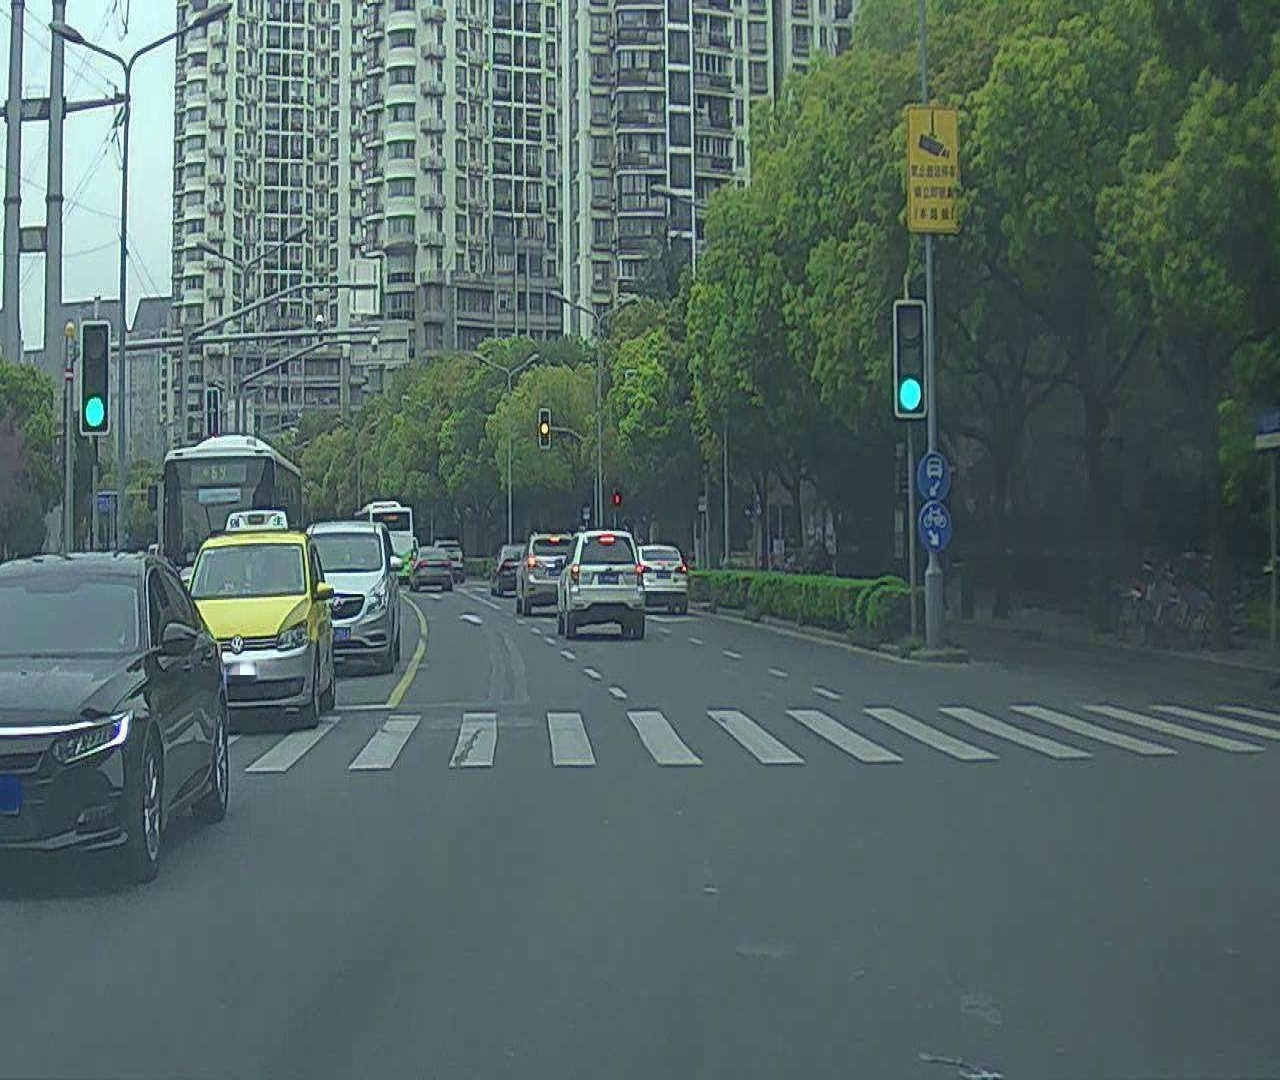green: (897, 298, 929, 420), (78, 319, 110, 438)
yellow: (539, 406, 549, 448)
